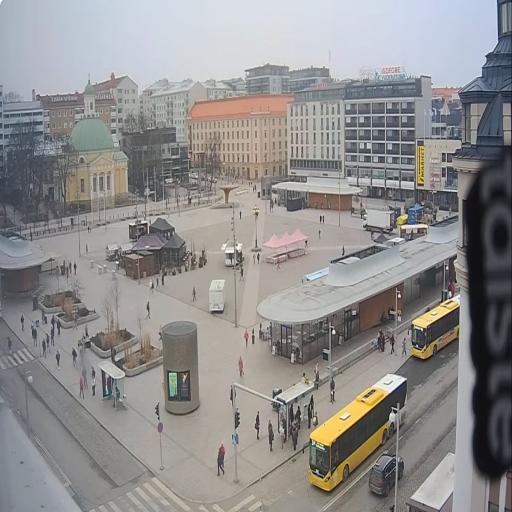bus: (306, 366, 406, 490), (408, 290, 460, 365)
car: (364, 451, 406, 501), (209, 174, 218, 184), (192, 170, 200, 178), (201, 174, 208, 182)
delivery: (363, 205, 395, 237)
